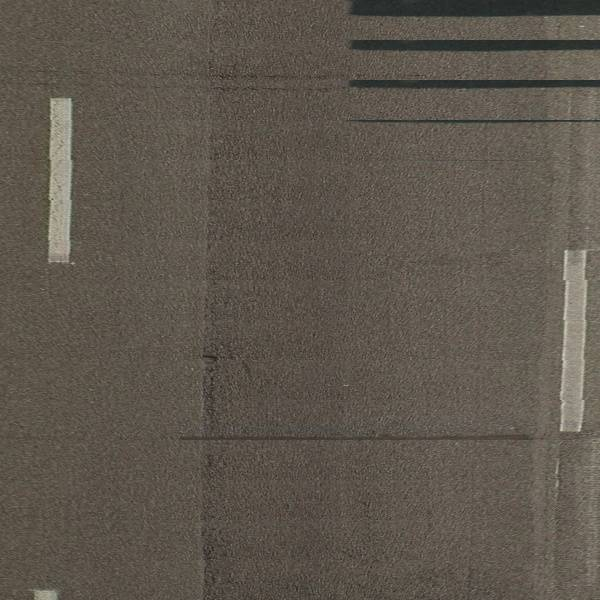road_damage: (173, 430, 542, 447), (200, 57, 337, 82), (196, 330, 227, 422)
